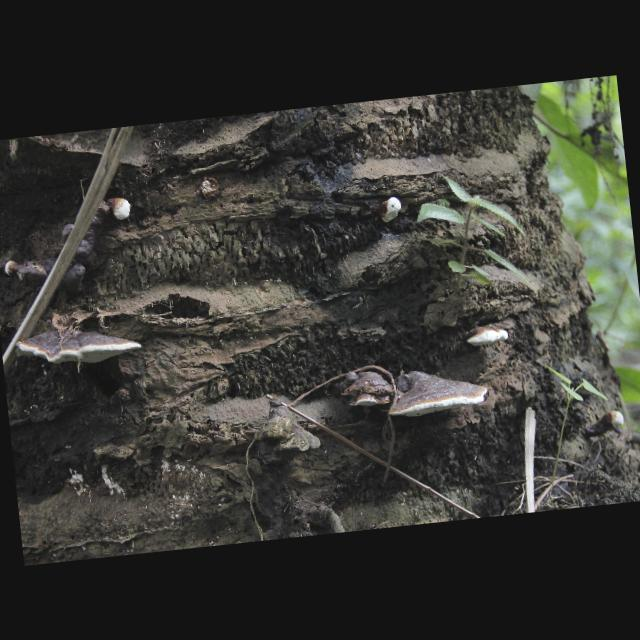ganoderma: (12, 198, 118, 302), (14, 319, 144, 373), (384, 365, 490, 421), (339, 368, 399, 411), (466, 325, 510, 349)
primordium: (379, 197, 403, 224), (110, 197, 133, 222), (606, 410, 626, 432), (4, 261, 18, 278)
